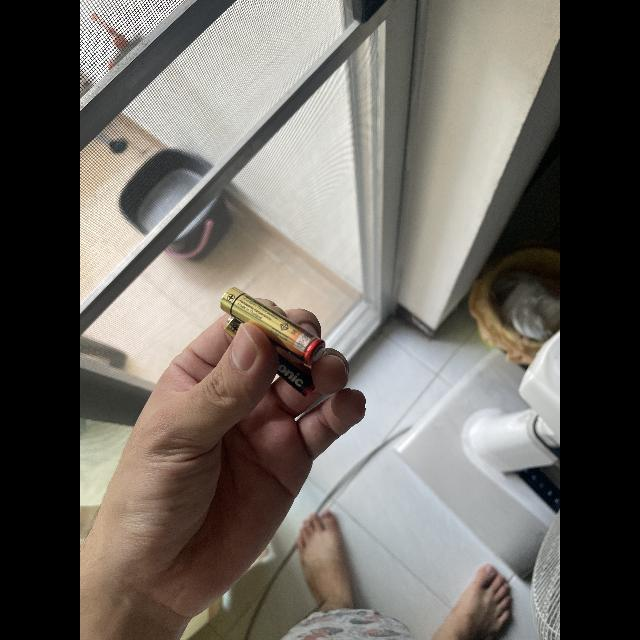battery: (219, 286, 328, 365), (223, 317, 316, 397)
